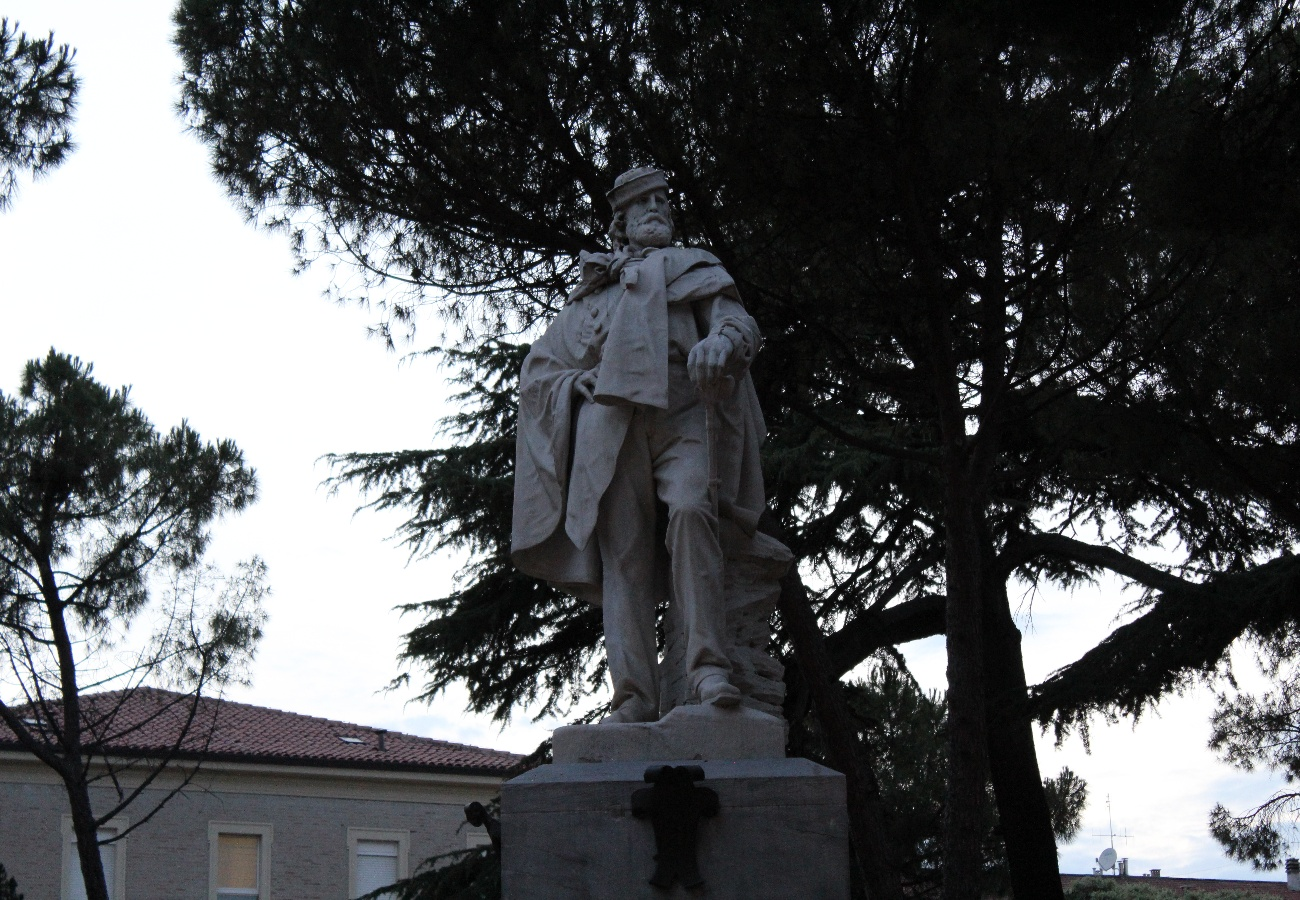Giuseppe Garibaldi: (508, 171, 766, 752)
